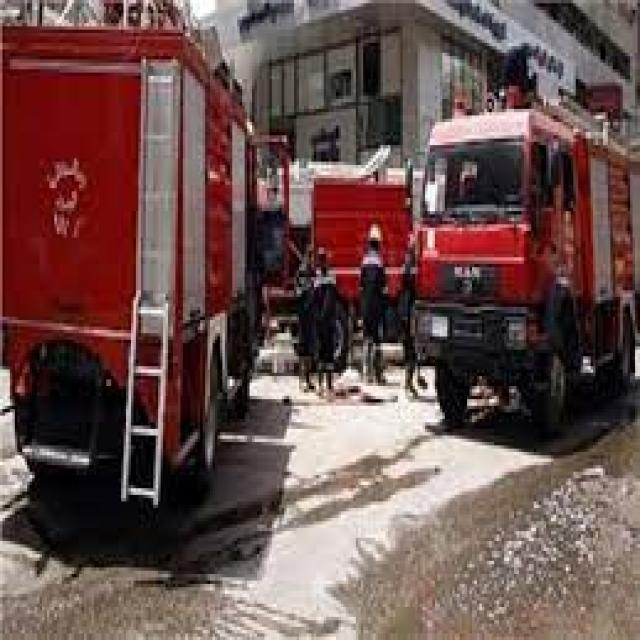pompier: (6, 22, 294, 466), (417, 89, 636, 421)
